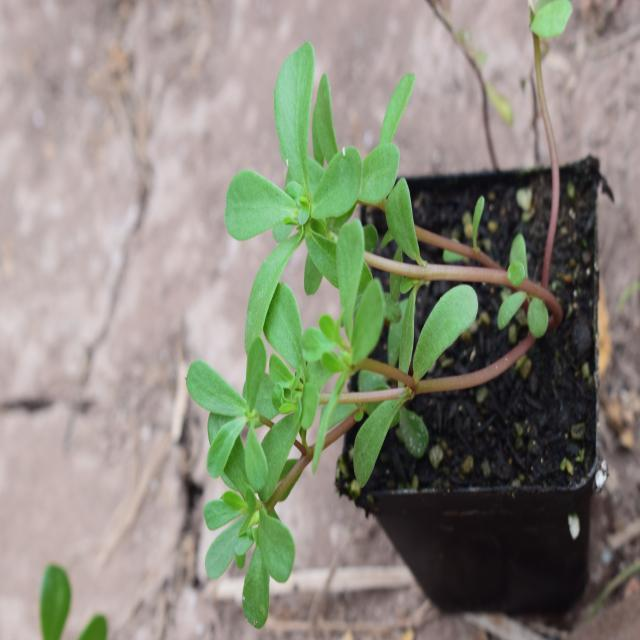purslane: (184, 49, 516, 627)
